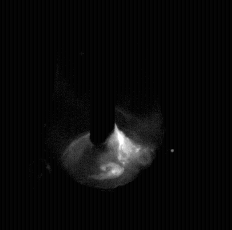arame: (91, 0, 116, 149)
poca: (48, 0, 157, 230)
